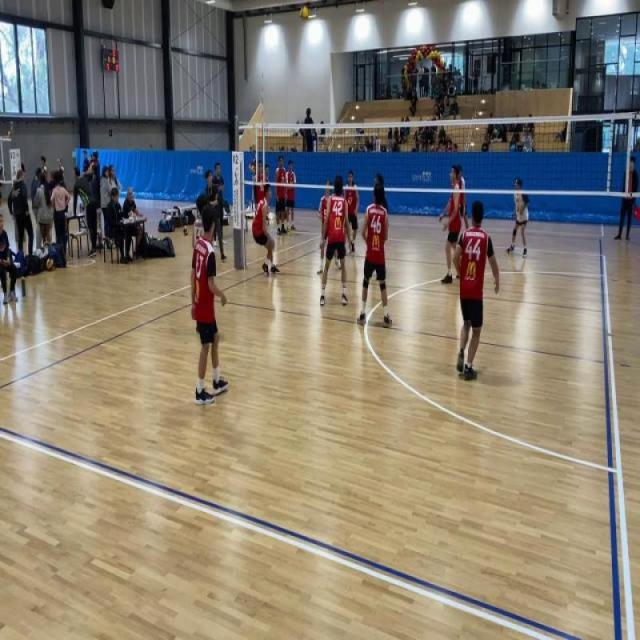volleyball: (300, 5, 310, 22), (46, 257, 54, 272), (182, 224, 190, 237), (6, 131, 12, 139), (148, 235, 154, 242), (156, 236, 161, 242)
